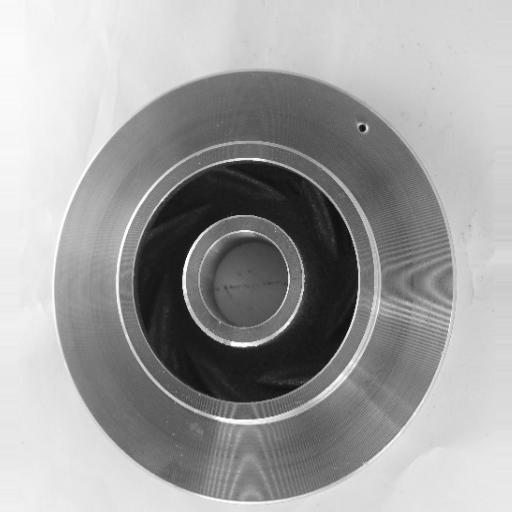pit: (348, 115, 381, 144)
unpolished_casting: (50, 64, 455, 505)
